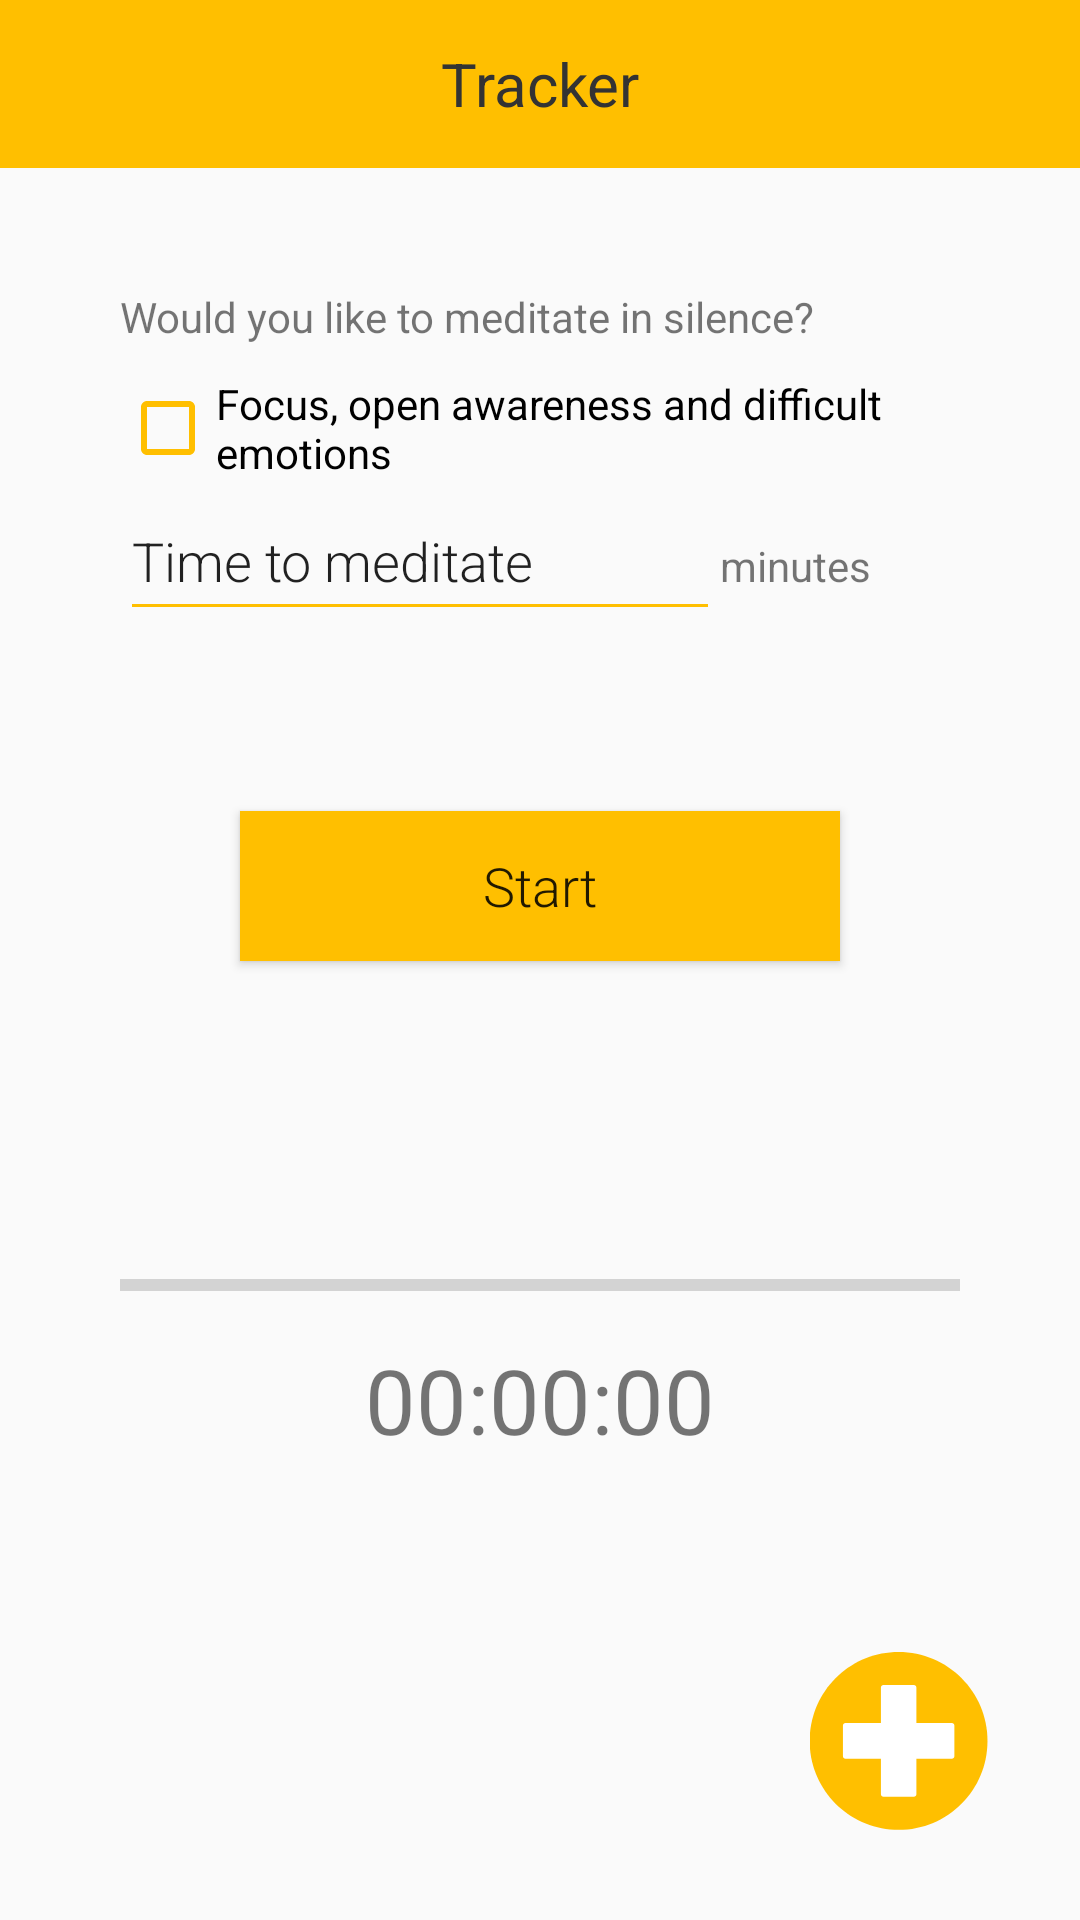

Icon click points for this 1080*1920 phone screenshot, format [x,y]:
Add a meditation by hand: [899,1741]
